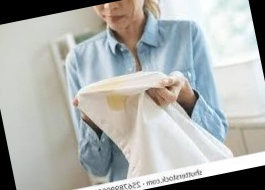mustard: (103, 85, 134, 117)
